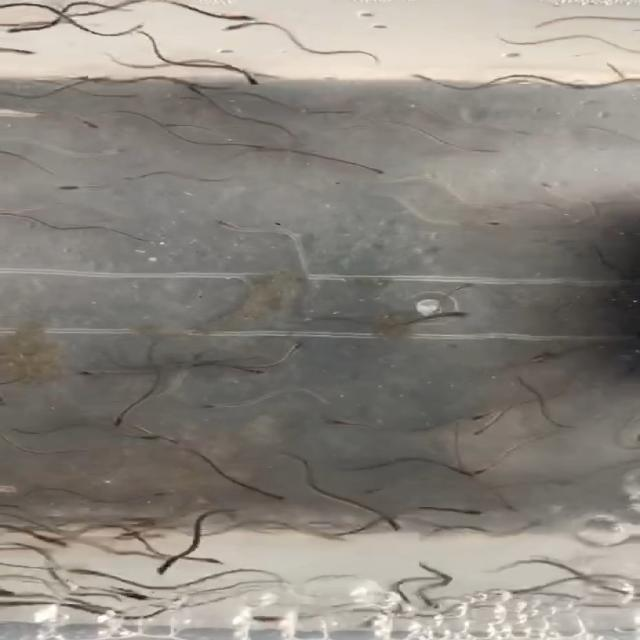active_glass_eel: (245, 612, 301, 623), (378, 516, 403, 536), (257, 491, 290, 506), (111, 410, 135, 430), (466, 463, 498, 478), (152, 558, 176, 578), (116, 586, 149, 600), (143, 488, 185, 499), (283, 340, 307, 359), (4, 45, 39, 58), (322, 417, 357, 430), (108, 146, 143, 159), (431, 310, 476, 320), (158, 120, 197, 131), (447, 506, 489, 516), (56, 181, 90, 193), (62, 566, 98, 577), (469, 146, 502, 158), (463, 409, 491, 423), (214, 219, 243, 232), (469, 422, 494, 437), (197, 399, 231, 410), (225, 13, 262, 23), (221, 21, 254, 32), (191, 555, 224, 566), (128, 433, 168, 442), (536, 179, 560, 194), (239, 364, 271, 375), (72, 118, 101, 130), (242, 137, 269, 149), (186, 82, 208, 96), (361, 165, 388, 176), (39, 537, 71, 546), (113, 91, 141, 101), (5, 26, 30, 36), (483, 219, 507, 229), (73, 369, 99, 378), (243, 75, 260, 86)
